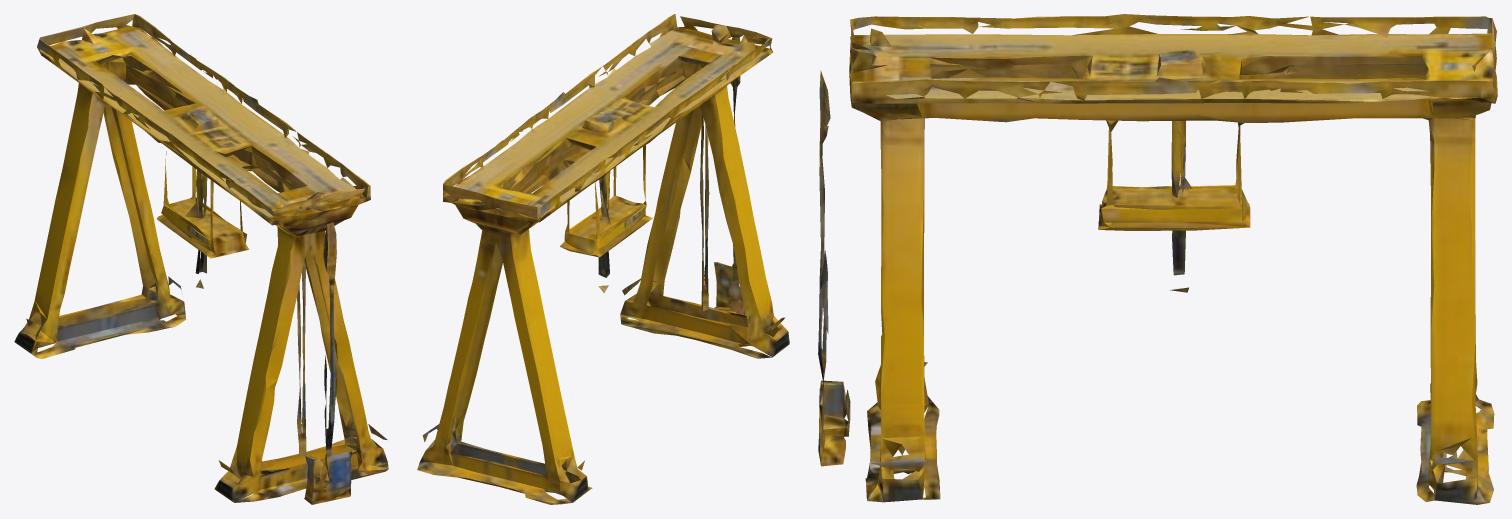
The model's file is cargo_gantry_crane.glb.
3 views of the same model, side by side, from view 1: azimuth 30°, elevation 25°; view 2: azimuth 150°, elevation 25°; view 3: azimuth 270°, elevation 25° (orthographic). The views are drawn at different scales.
Visible parts, largest first — view 1: turn; view 2: turn; view 3: turn.
Boxes of the visible parts, x1=… form: turn: x1=14, y1=14, x2=388, y2=504; turn: x1=417, y1=14, x2=789, y2=504; turn: x1=818, y1=14, x2=1497, y2=504.
Size of the model in its own units: 3.28 by 6 by 9.03.
1 material, 1 textured.
